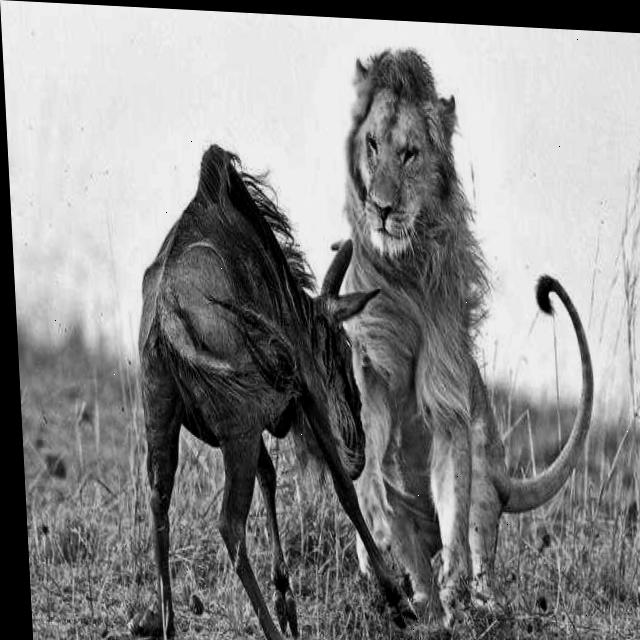Lion: (328, 47, 526, 528)
